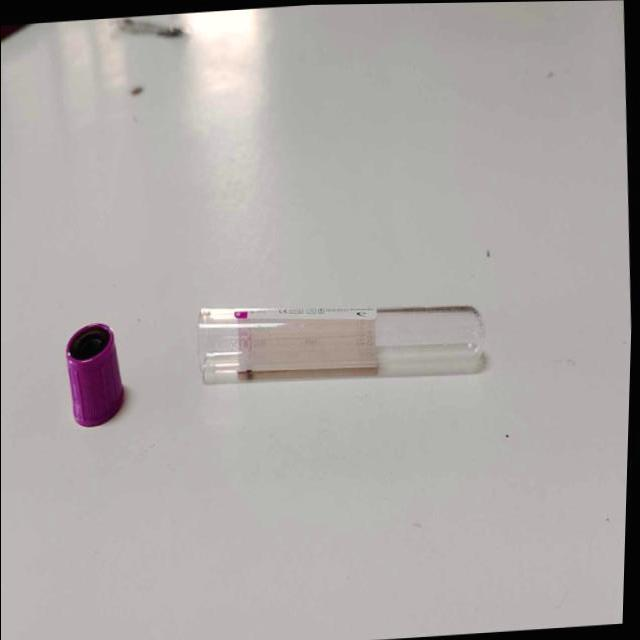General: (63, 320, 127, 429)
Sharps: (197, 304, 489, 385)
